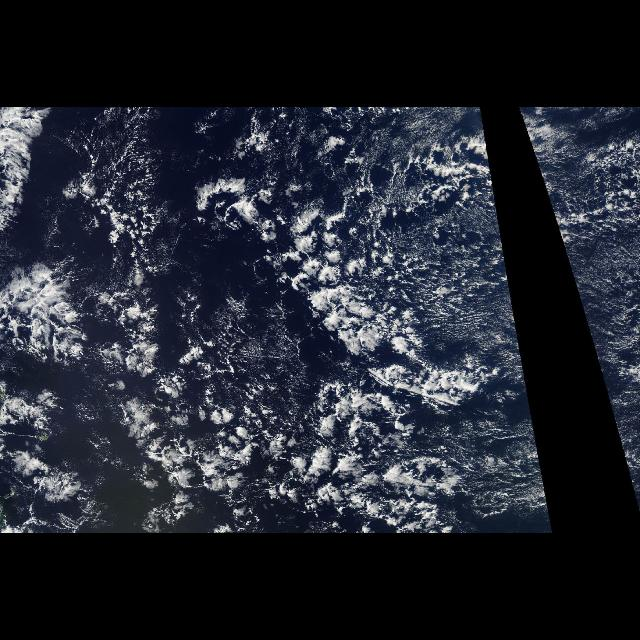Fish: (2, 230, 472, 532)
Flower: (39, 152, 501, 532)
Gravel: (183, 131, 509, 514), (526, 131, 640, 287)
Sugar: (572, 227, 640, 507), (460, 412, 550, 512), (214, 285, 298, 391)
